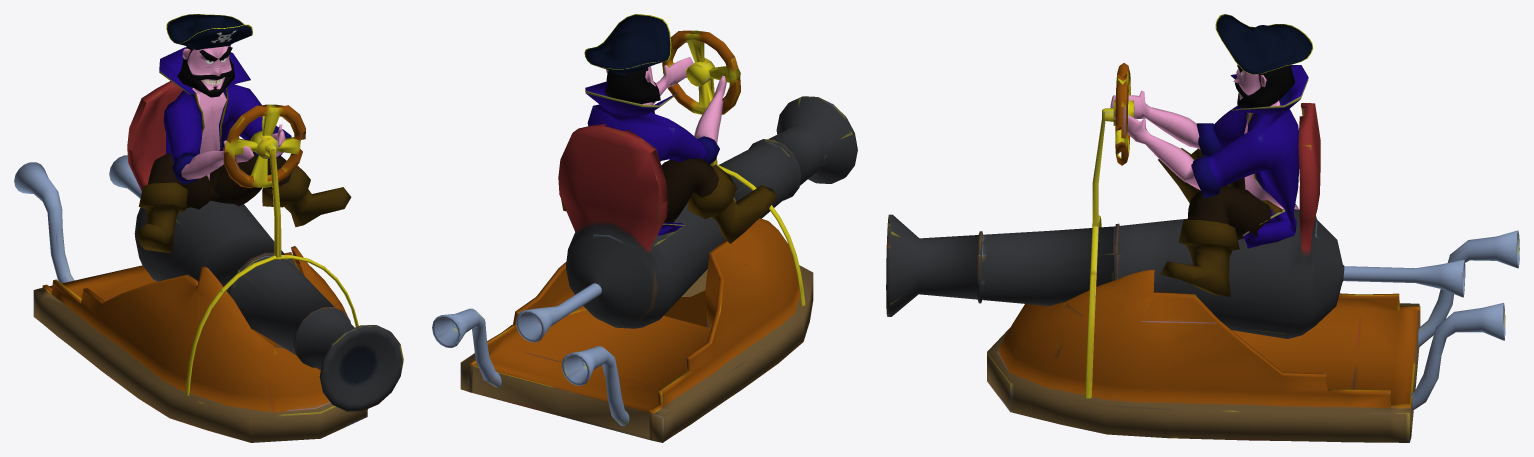
The model's file is VacilePirata_000507.obj.
3 renders of one model, left to right at view 1: azimuth 30°, elevation 25°; view 2: azimuth 150°, elevation 25°; view 3: azimuth 270°, elevation 25°, orthographic. The views are drawn at different scales.
Parts seen in each view (by area): view 1: carro_pirata_carro_pirata.001, Pirata_PirataH; view 2: carro_pirata_carro_pirata.001, Pirata_PirataH; view 3: carro_pirata_carro_pirata.001, Pirata_PirataH.
Boxes of the visible parts, <box> form: carro_pirata_carro_pirata.001: <box>14,81,403,442</box>; Pirata_PirataH: <box>136,14,351,252</box>; carro_pirata_carro_pirata.001: <box>432,30,857,442</box>; Pirata_PirataH: <box>561,14,777,243</box>; carro_pirata_carro_pirata.001: <box>886,63,1519,442</box>; Pirata_PirataH: <box>1110,14,1313,296</box>.
Bounding box in the file's own units: 5.13 × 7.71 × 12.1.
